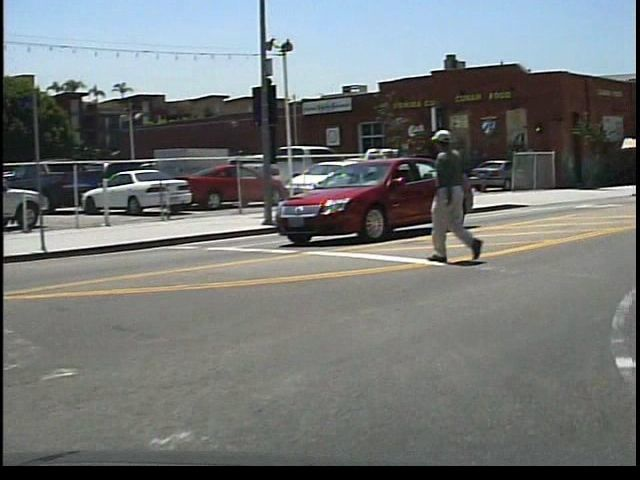person: (432, 117, 498, 271)
